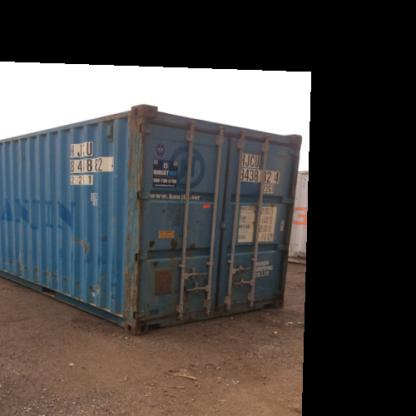Damage: (128, 113, 145, 192), (117, 259, 139, 317), (122, 191, 138, 255), (227, 275, 251, 308), (142, 300, 174, 323), (128, 100, 156, 125), (83, 279, 106, 303), (177, 302, 208, 316), (73, 236, 94, 256), (150, 256, 169, 275), (167, 230, 182, 254), (95, 228, 113, 246), (186, 240, 198, 256), (146, 235, 155, 252)
